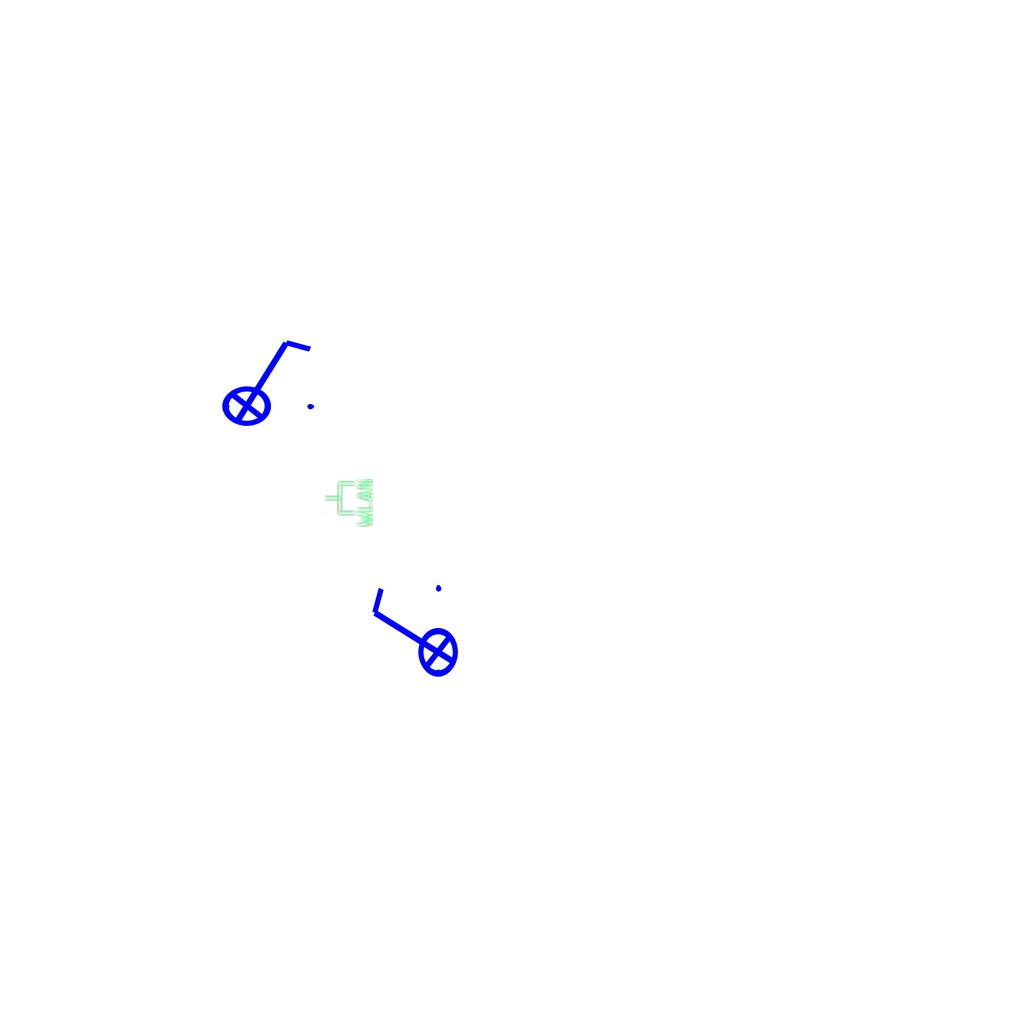Ausschalter_beleuchtet: (208, 332, 320, 428), (364, 579, 460, 691)
WLAN: (323, 477, 375, 529)
